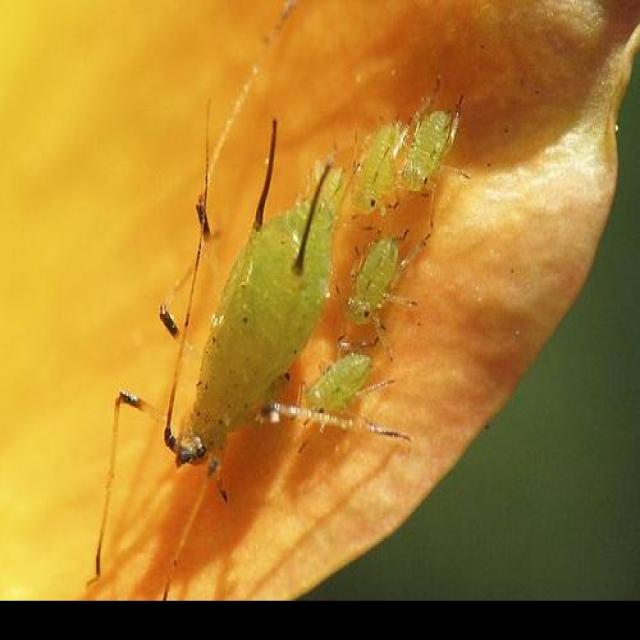Aphids: (110, 121, 381, 580)
